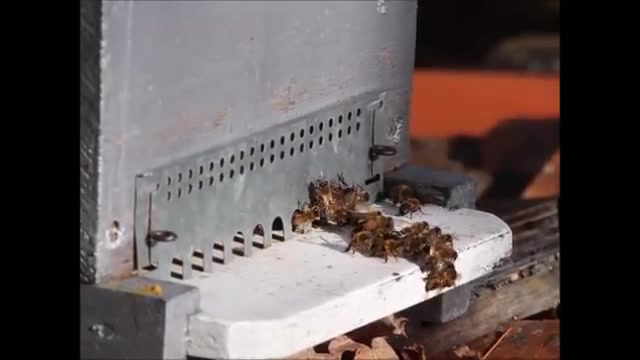bee: (319, 178, 370, 215), (349, 218, 396, 255), (399, 223, 431, 261), (432, 227, 462, 266), (295, 204, 321, 231), (430, 270, 458, 291), (396, 197, 426, 212)
